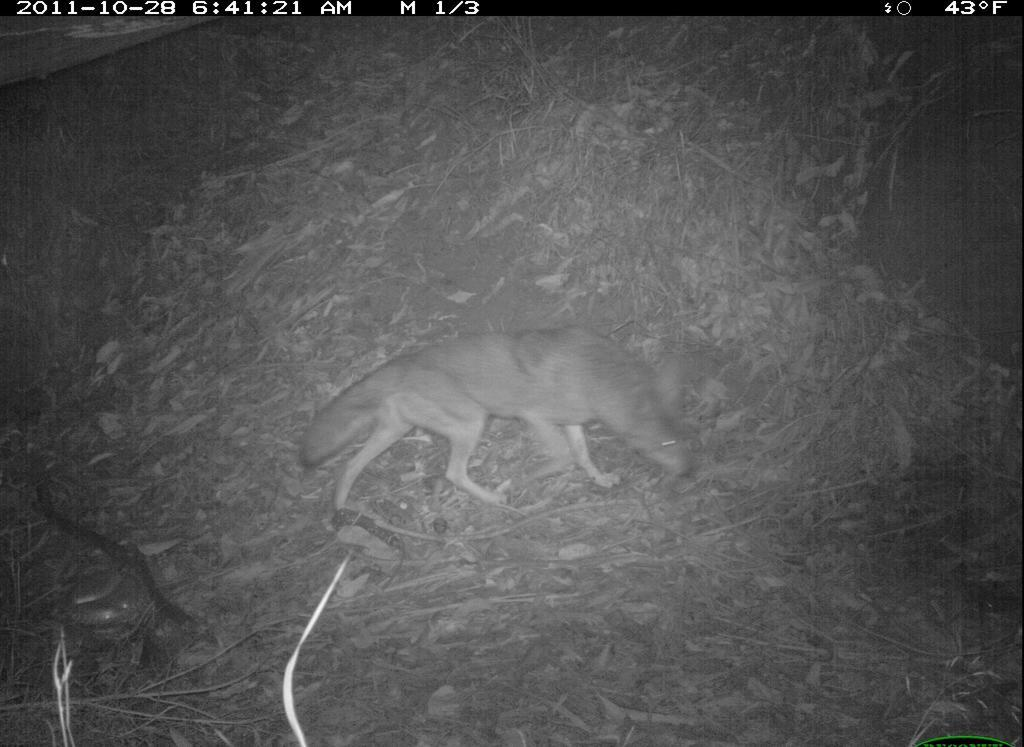coyote: (269, 303, 705, 534)
